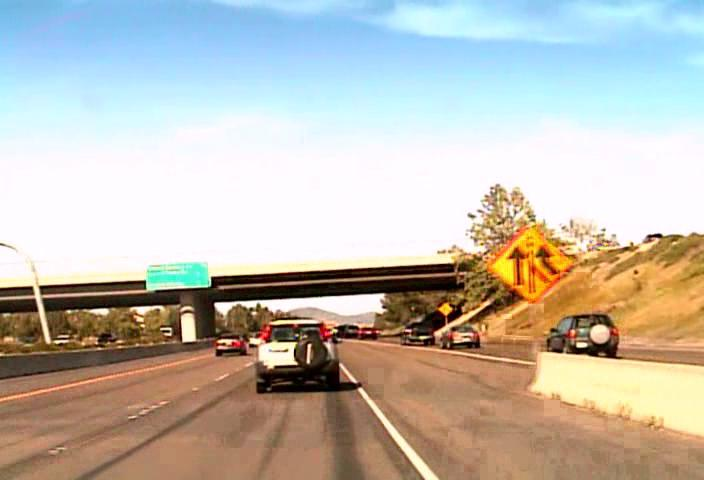addedLane: (488, 225, 574, 304)
